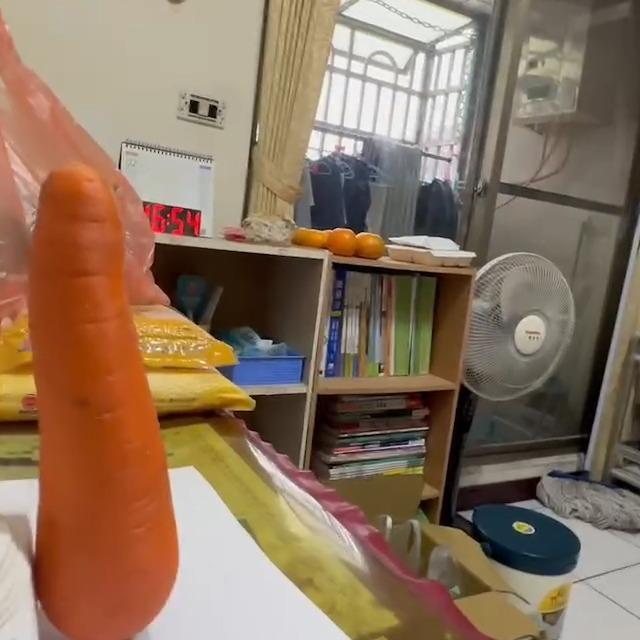carrot: (25, 165, 184, 640)
